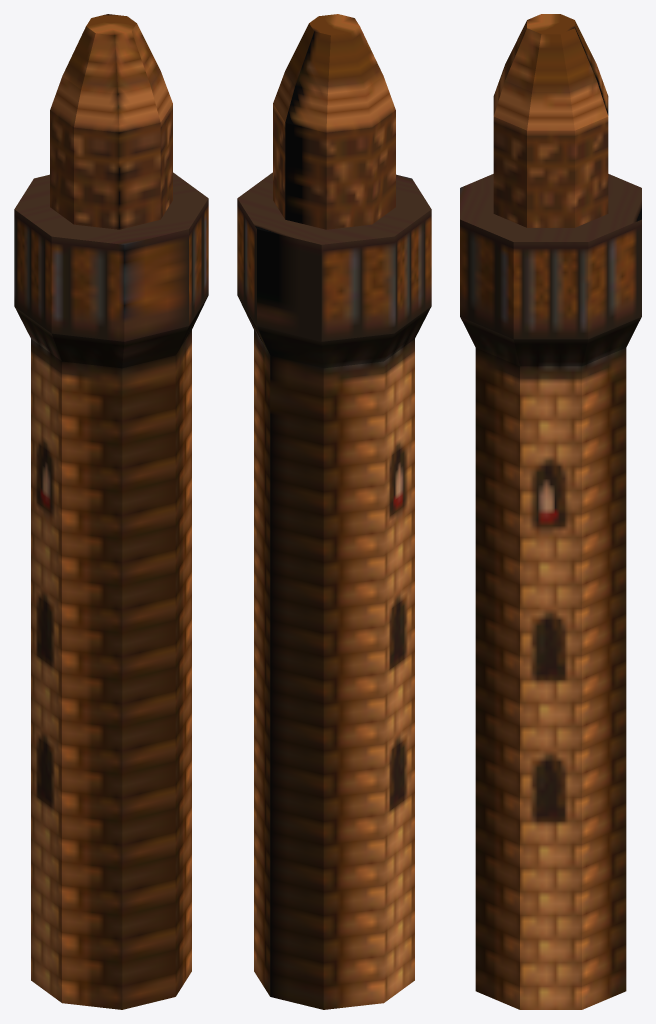
File: Tower.glb
The picture shows the model from 3 angles, left to right: view 1: azimuth 30°, elevation 25°; view 2: azimuth 150°, elevation 25°; view 3: azimuth 270°, elevation 25°; orthographic projection.
Parts seen in each view (by area): view 1: Tower; view 2: Tower; view 3: Tower.
Part boxes in pixels (x1,y1,x2,y2): Tower: (14, 14, 208, 1009); Tower: (237, 14, 431, 1009); Tower: (460, 14, 641, 1009).
Bounding box in the file's own units: 125 × 721 × 125.
Materials: 1 (1 with a texture image).
